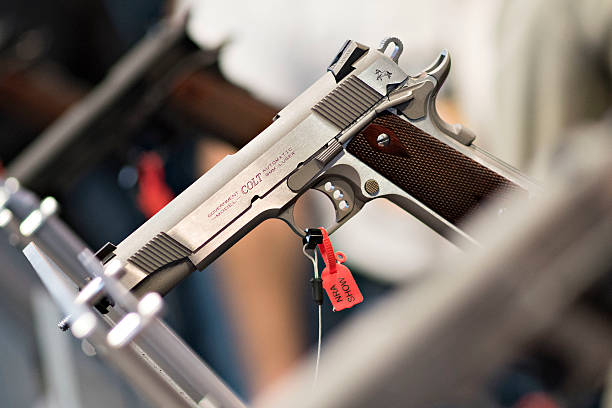pistol: (92, 30, 553, 322)
